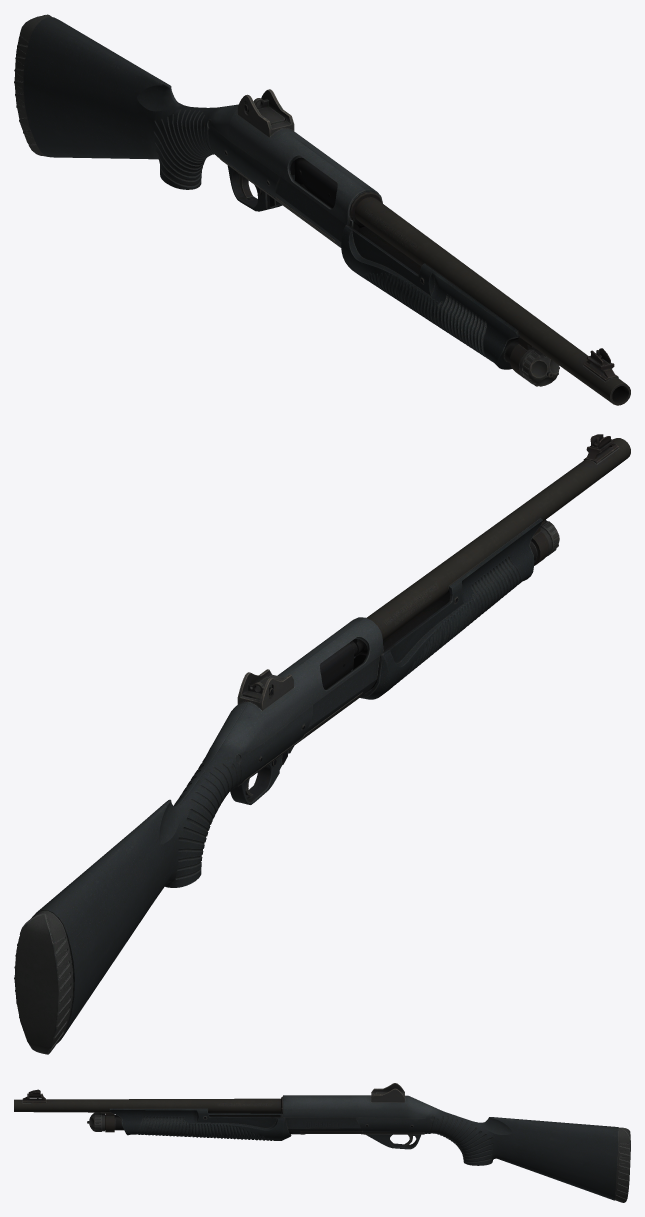
Rendered from nova.glb.
3 views of the same model, one above another, from view 1: azimuth 30°, elevation 25°; view 2: azimuth 150°, elevation 25°; view 3: azimuth 270°, elevation 25° (orthographic). The views are drawn at different scales.
Parts seen in each view (by area): view 1: nova; view 2: nova; view 3: nova.
Part boxes in pixels (<box>): nova: <box>14,14,630,405</box>; nova: <box>14,434,630,1054</box>; nova: <box>14,1083,630,1202</box>.
Bounding box in the file's own units: 2.02 × 8.22 × 39.69.
1 material, 1 textured.
